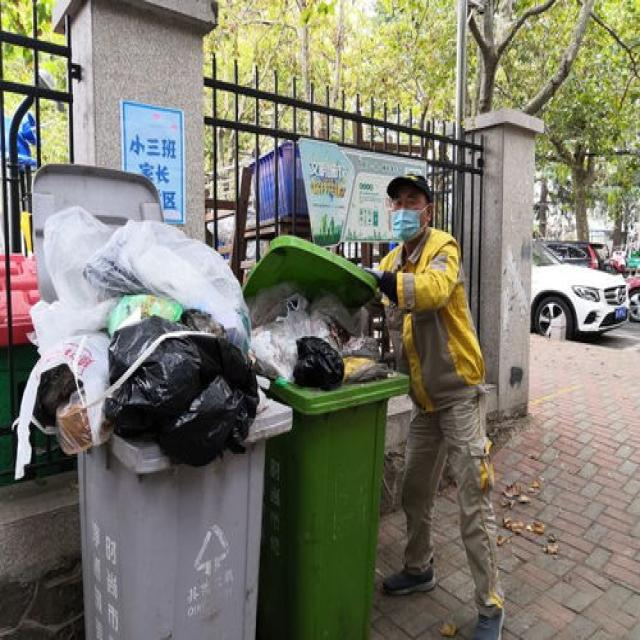overflow: (10, 206, 291, 638), (240, 234, 410, 636)
